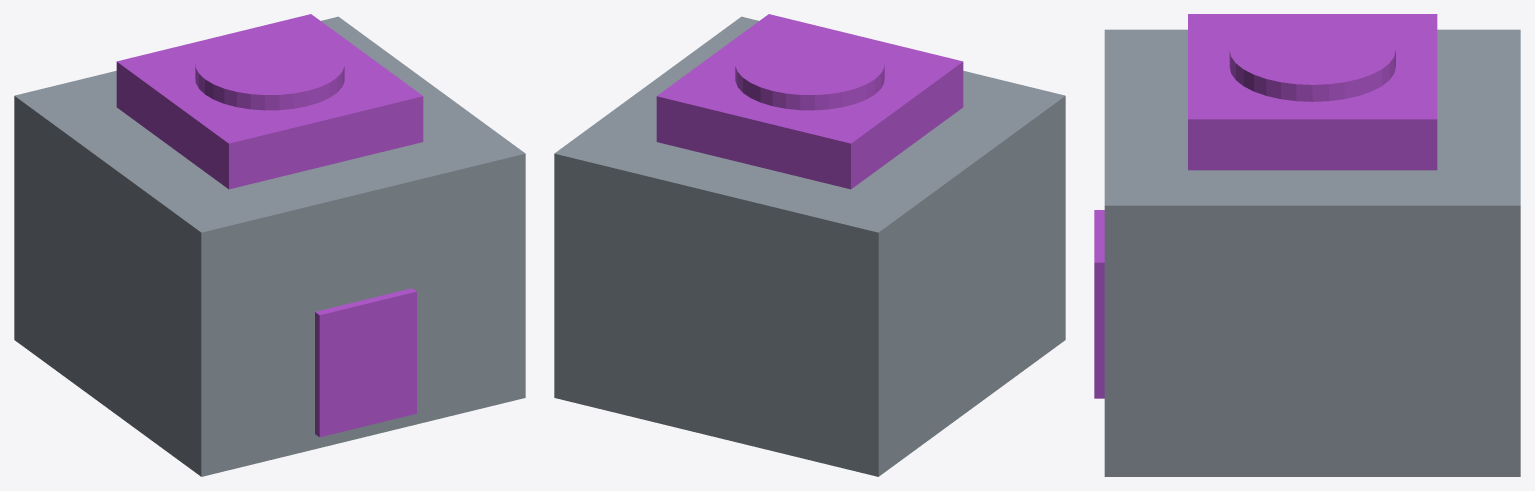
File: SM_Chronolegion_CH_AATurret_Blockout.fbx
3 views of the same model, side by side, from view 1: azimuth 30°, elevation 25°; view 2: azimuth 150°, elevation 25°; view 3: azimuth 270°, elevation 25° (orthographic). The views are drawn at different scales.
Parts seen in each view (by area): view 1: MainBuilding, RoofStructure, EntranceGate, Spire; view 2: MainBuilding, RoofStructure, Spire; view 3: MainBuilding, RoofStructure, Spire, EntranceGate.
Part boxes in pixels (x1=…): MainBuilding: x1=14, y1=16, x2=525, y2=476; RoofStructure: x1=116, y1=14, x2=423, y2=189; EntranceGate: x1=315, y1=288, x2=416, y2=437; Spire: x1=195, y1=32, x2=344, y2=110; MainBuilding: x1=554, y1=16, x2=1065, y2=476; RoofStructure: x1=656, y1=14, x2=963, y2=189; Spire: x1=735, y1=32, x2=884, y2=110; MainBuilding: x1=1104, y1=29, x2=1520, y2=476; RoofStructure: x1=1188, y1=14, x2=1437, y2=170; Spire: x1=1229, y1=14, x2=1395, y2=101; EntranceGate: x1=1094, y1=210, x2=1104, y2=398.
Size of the model in its own units: 400 by 360 by 410.
